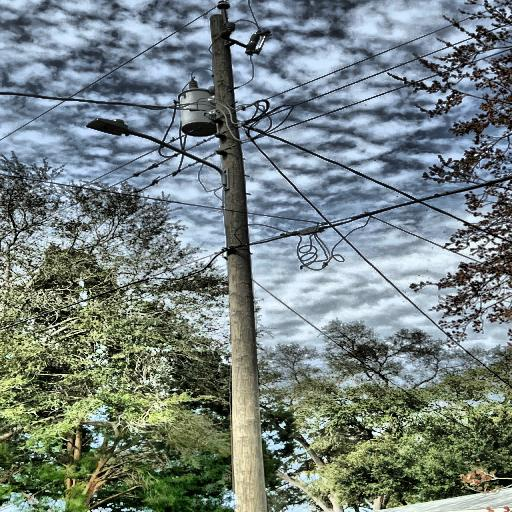insulator: (213, 0, 230, 11)
pole: (198, 11, 296, 512)
street light: (82, 118, 234, 192)
transformer: (176, 86, 220, 138)
